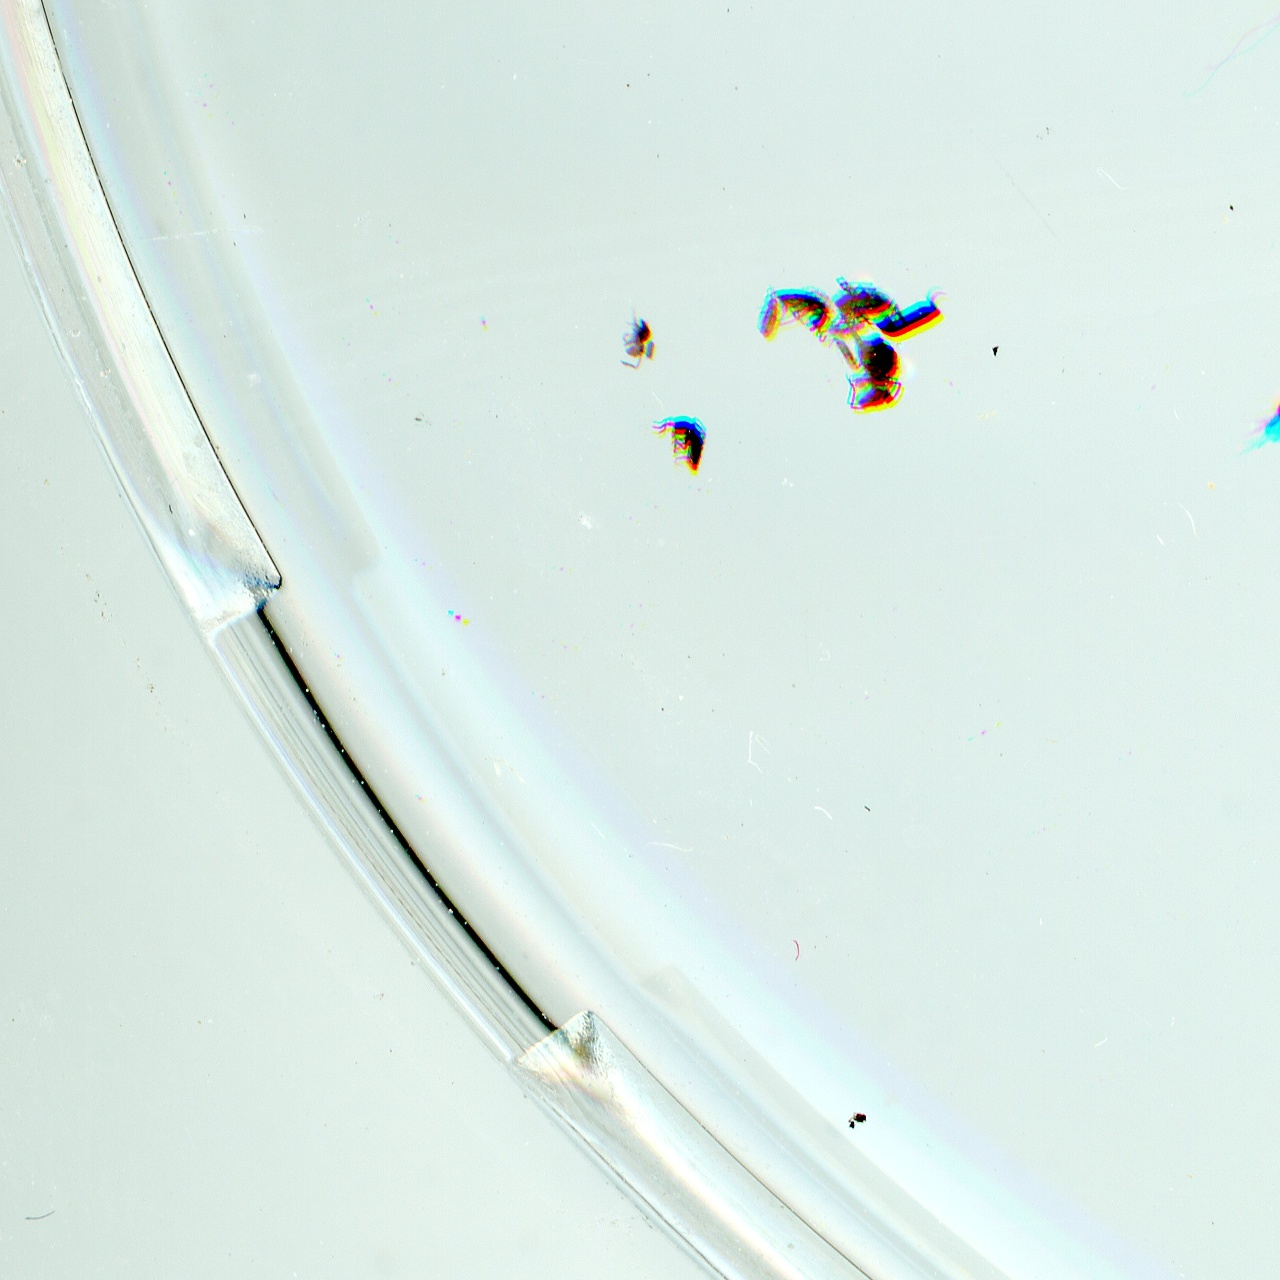arthropod: (1206, 322, 1280, 482), (863, 277, 963, 358), (842, 332, 907, 418), (829, 269, 900, 338), (648, 415, 711, 479), (776, 283, 835, 338), (620, 309, 656, 370), (755, 286, 782, 343)
